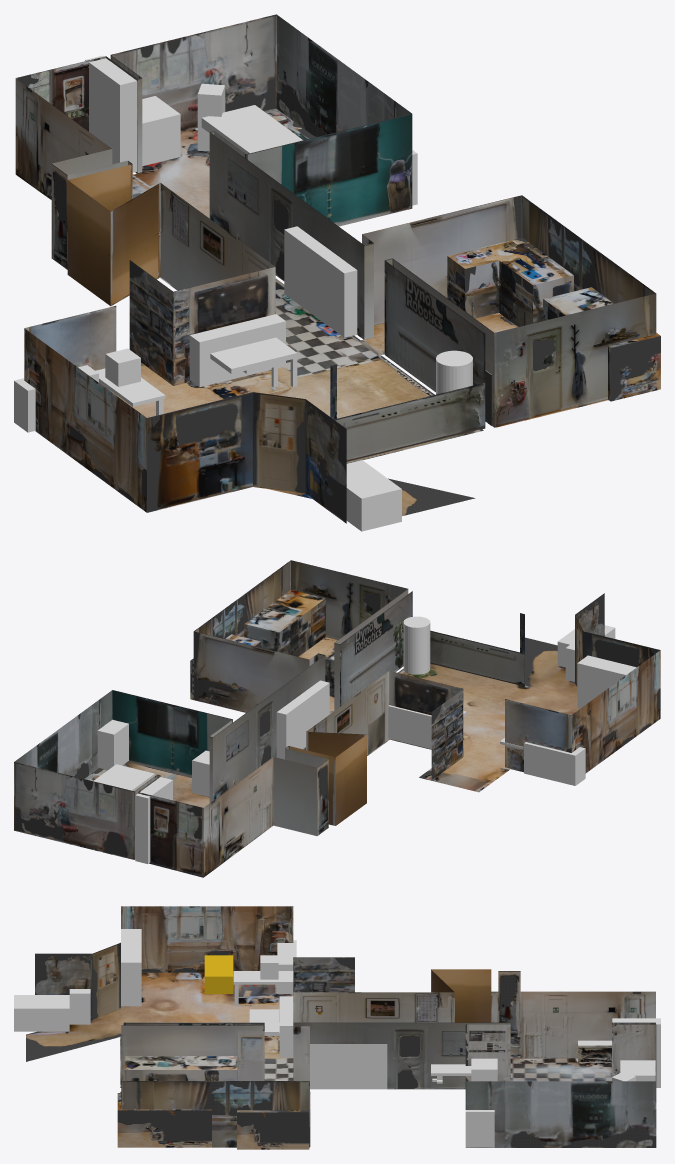
Rendered from kontor_UV.dae.
3 views of the same model, one above another, from view 1: azimuth 30°, elevation 25°; view 2: azimuth 150°, elevation 25°; view 3: azimuth 270°, elevation 25° (orthographic). The views are drawn at different scales.
Parts seen in each view (by area): view 1: Walls, floor, workspace_L, recycling, workspace_single, clothes_shoerack, speakers, sofa, table_low_res, streetsweeper, big_table, plant (+4 smaller); view 2: Walls, floor, workspace_single, recycling, storage, storage.001, clothes_shoerack, plant, speakers, pilot_robot, table_low_res, mini_fridge (+1 smaller); view 3: Walls, floor, workspace_single, recycling, workspace_L, workspace_double, sofa, storage.001, flivab?, pilot_robot, speakers, table (+9 smaller).
Part boxes in pixels (<box>): Walls: <box>15,14,656,523</box>; floor: <box>39,108,608,515</box>; workspace_L: <box>447,237,573,326</box>; recycling: <box>284,226,357,337</box>; workspace_single: <box>543,287,660,401</box>; clothes_shoerack: <box>85,55,137,172</box>; speakers: <box>189,314,285,387</box>; sofa: <box>346,460,401,531</box>; table_low_res: <box>201,105,302,154</box>; streetsweeper: <box>142,96,180,165</box>; big_table: <box>210,337,297,386</box>; plant: <box>436,350,472,394</box>; Walls: <box>14,560,660,877</box>; floor: <box>84,637,646,835</box>; workspace_single: <box>244,590,325,656</box>; recycling: <box>276,680,329,759</box>; storage: <box>524,742,585,785</box>; storage.001: <box>577,655,636,708</box>; clothes_shoerack: <box>135,777,172,863</box>; plant: <box>403,616,430,674</box>; speakers: <box>388,705,431,748</box>; pilot_robot: <box>97,719,128,769</box>; table_low_res: <box>93,764,154,791</box>; mini_fridge: <box>192,750,209,796</box>; Walls: <box>35,906,656,1147</box>; floor: <box>26,972,611,1146</box>; workspace_single: <box>117,1093,211,1147</box>; recycling: <box>310,1044,387,1089</box>; workspace_L: <box>237,1110,309,1149</box>; workspace_double: <box>124,1056,237,1080</box>; sofa: <box>14,995,69,1031</box>; storage.001: <box>121,929,141,1006</box>; flivab?: <box>204,955,233,993</box>; pilot_robot: <box>465,1110,494,1147</box>; speakers: <box>279,996,293,1057</box>; table: <box>233,971,293,1005</box>.
Size of the model in its own units: 24.23 by 36.9 by 4.5.
18 materials, 16 textured.
